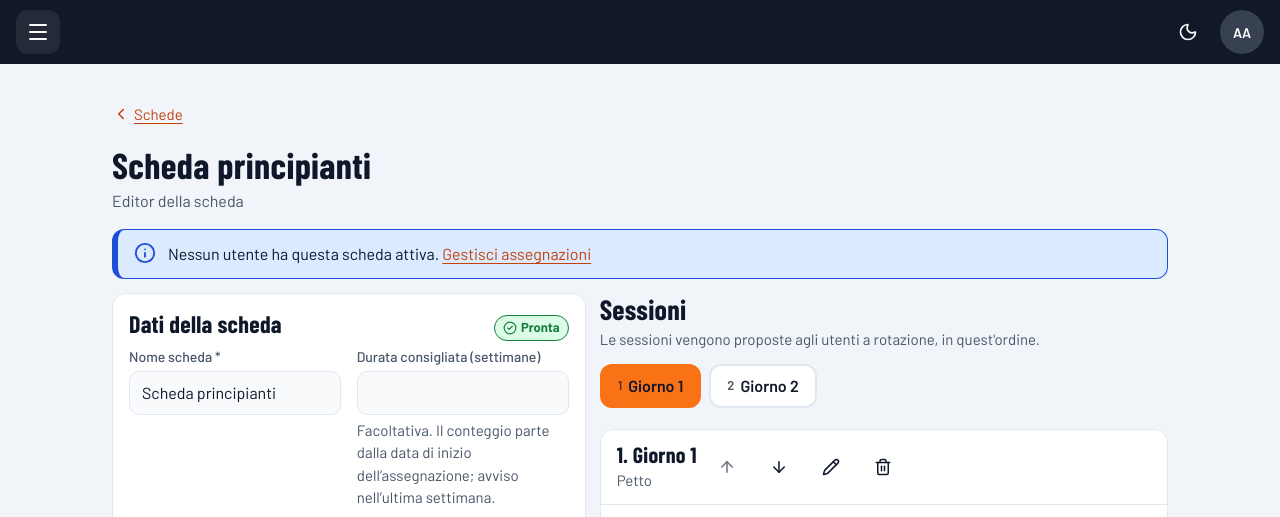
Scenario: plan editor › shows a failed rename and preserves the title draft for retry
Step 1. Click the button named "Rinomina Giorno 1" → (831,467), box [809,445,853,489]
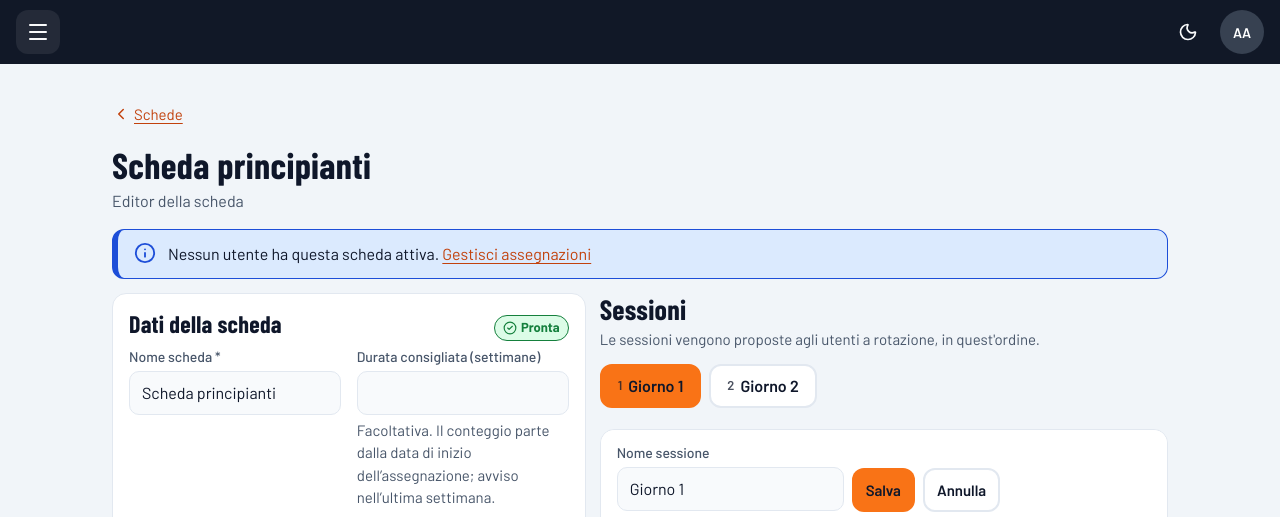
Step 2. Replace the text in the field labelled "Nome sessione" with "Titolo da riprovare" → (730,489), box [617,467,844,511]
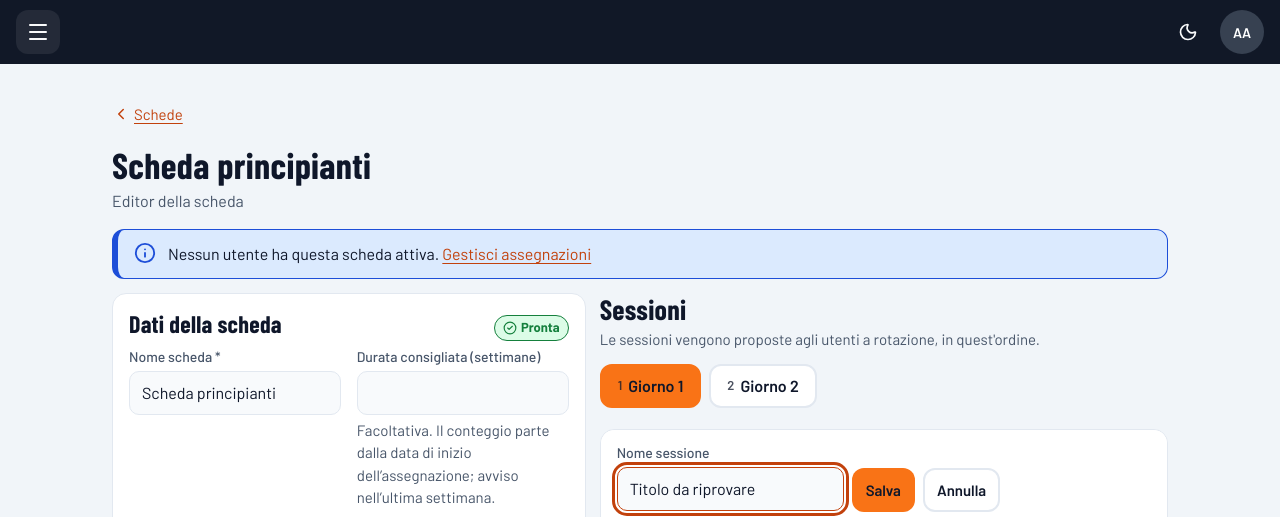
Step 3. Click the button "Salva" → (883,490), box [852,468,915,512]
(page scrolled)
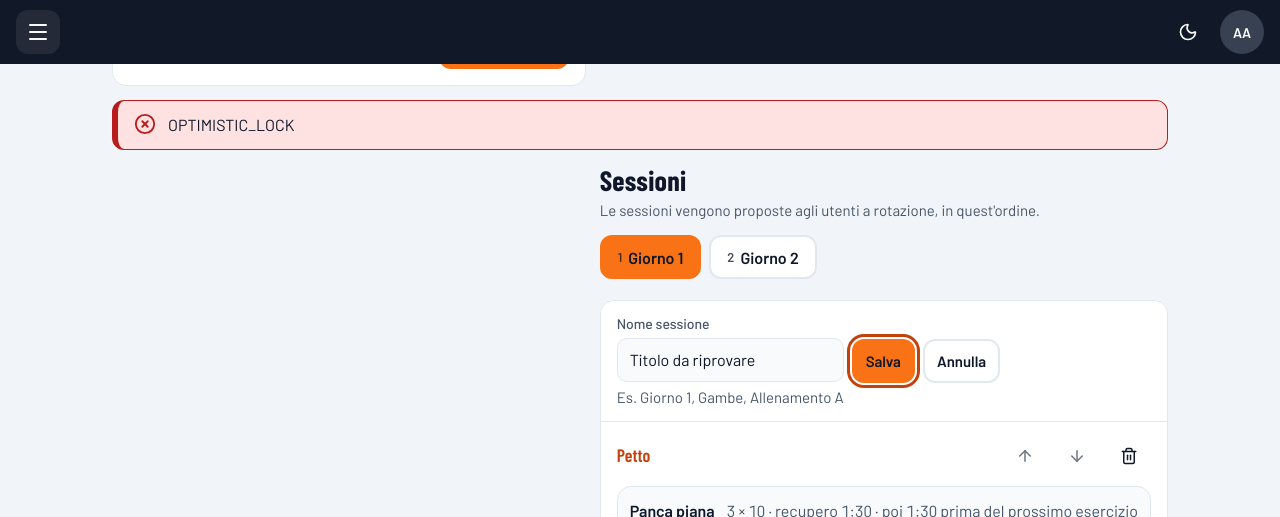
Check: the message "OPTIMISTIC_LOCK" is shown, box [112,100,1168,150]
